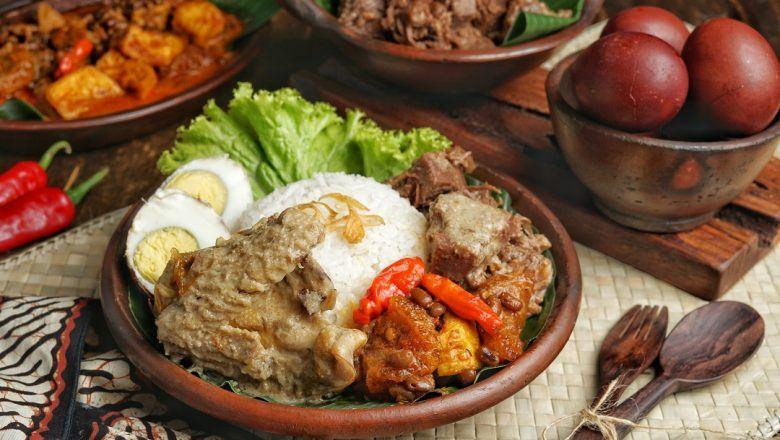gudeg: (125, 147, 554, 405)
